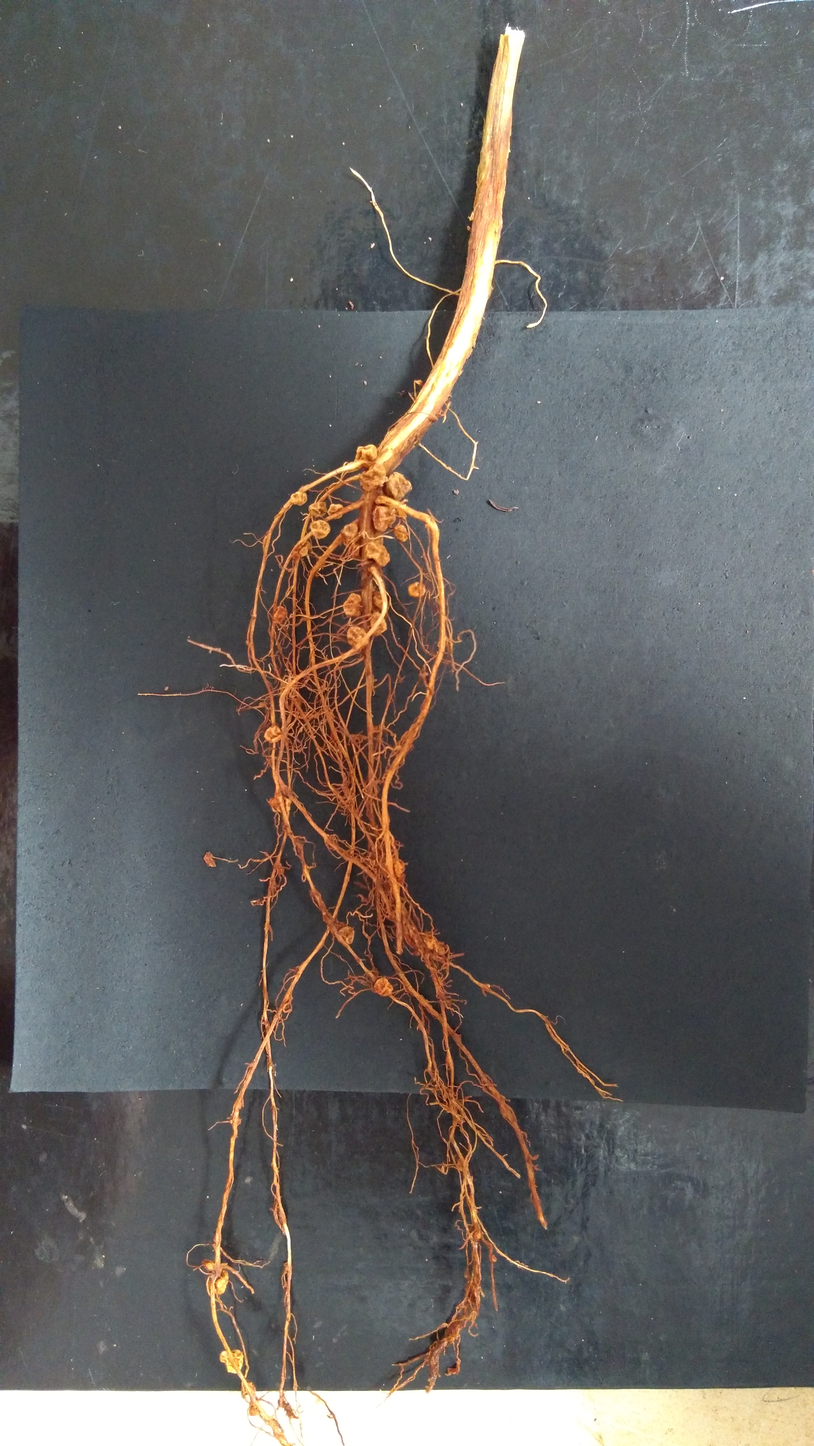nodule: (384, 471, 413, 501), (359, 463, 387, 491), (365, 539, 391, 569), (372, 502, 397, 533), (218, 1348, 244, 1374), (205, 1268, 230, 1295), (354, 444, 378, 469), (346, 625, 370, 650), (342, 592, 364, 618), (382, 857, 406, 878), (369, 611, 388, 637), (340, 522, 358, 547), (444, 1318, 462, 1343), (310, 519, 331, 540), (370, 590, 390, 612), (270, 794, 292, 814), (372, 976, 394, 996), (263, 723, 282, 743), (291, 540, 311, 558), (337, 925, 355, 945), (272, 604, 288, 626), (397, 497, 411, 521), (466, 1283, 482, 1304), (408, 581, 426, 599), (349, 537, 362, 561), (433, 939, 450, 957), (323, 833, 340, 851), (308, 501, 327, 517), (393, 523, 409, 542), (422, 932, 438, 950), (327, 503, 343, 520), (290, 491, 307, 506), (242, 1380, 257, 1396), (455, 1156, 470, 1171), (201, 1258, 216, 1272), (249, 1397, 259, 1416), (229, 1114, 243, 1126), (274, 862, 284, 876), (282, 1262, 293, 1274), (472, 1229, 482, 1242), (491, 1254, 497, 1263), (258, 701, 267, 707), (483, 983, 491, 988), (467, 224, 471, 231)
